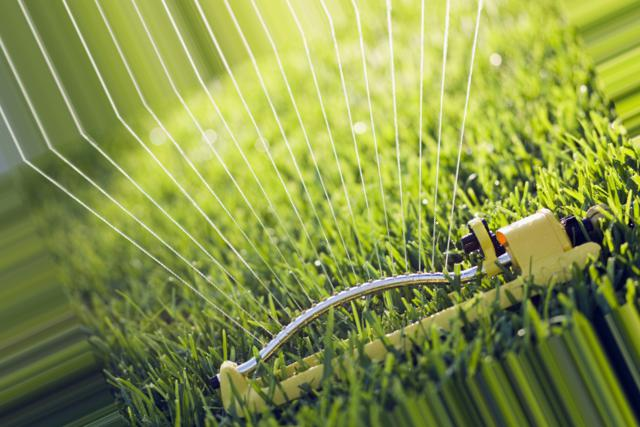patch: (287, 19, 301, 27)
